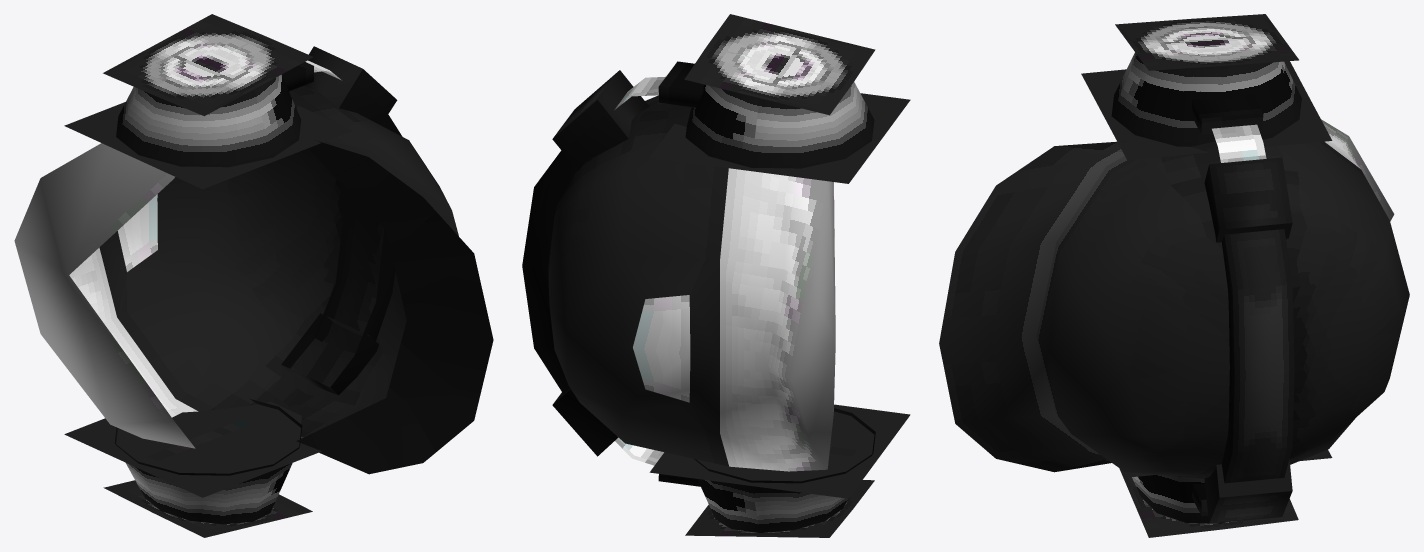
Rendered from hlmt_headphone.dae.
3 renders of one model, left to right at view 1: azimuth 30°, elevation 25°; view 2: azimuth 150°, elevation 25°; view 3: azimuth 270°, elevation 25°, orthographic. The views are drawn at different scales.
Visible parts, largest first — view 1: hlmt_headphone; view 2: hlmt_headphone; view 3: hlmt_headphone.
Boxes of the visible parts, box(x1,y1,x2,y2) form: hlmt_headphone: box(14, 14, 493, 537); hlmt_headphone: box(522, 14, 910, 537); hlmt_headphone: box(939, 14, 1409, 537).
Size of the model in its own units: 21.62 by 28.71 by 26.21.
Materials: 3 (3 with a texture image).
